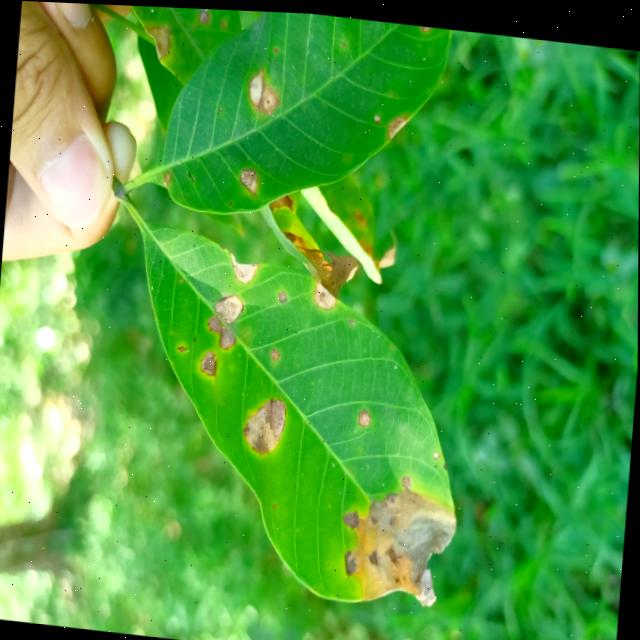Colletotrichum: (433, 446, 441, 454), (374, 111, 380, 117), (180, 343, 186, 349), (274, 44, 278, 50), (179, 276, 183, 280), (228, 198, 231, 202), (219, 104, 222, 108)
Leaf-Blight: (353, 480, 457, 606), (280, 228, 357, 297), (243, 392, 287, 453), (246, 73, 279, 109), (142, 22, 171, 57), (207, 313, 237, 345), (229, 249, 258, 280), (214, 290, 242, 321), (313, 279, 337, 306), (386, 110, 408, 136), (239, 164, 260, 190), (268, 189, 294, 208), (201, 348, 217, 373), (360, 406, 371, 421), (194, 334, 196, 338)
